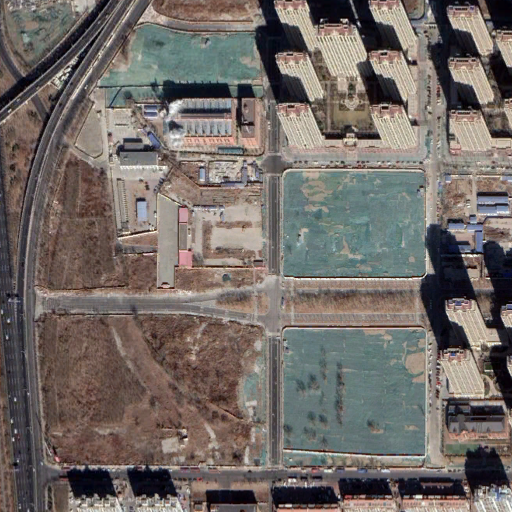cw: (277, 328, 423, 456), (280, 171, 426, 279), (99, 25, 264, 105), (4, 2, 91, 65)
